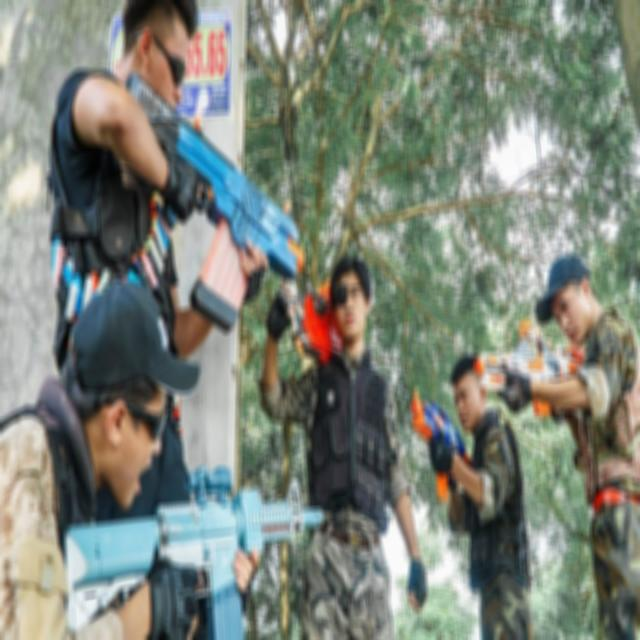Nerf gun: (105, 66, 309, 328), (61, 457, 338, 638), (474, 316, 590, 425), (406, 377, 473, 503), (289, 278, 345, 372)
